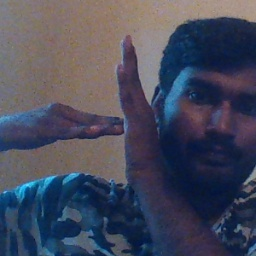Z: (47, 31, 160, 196)
